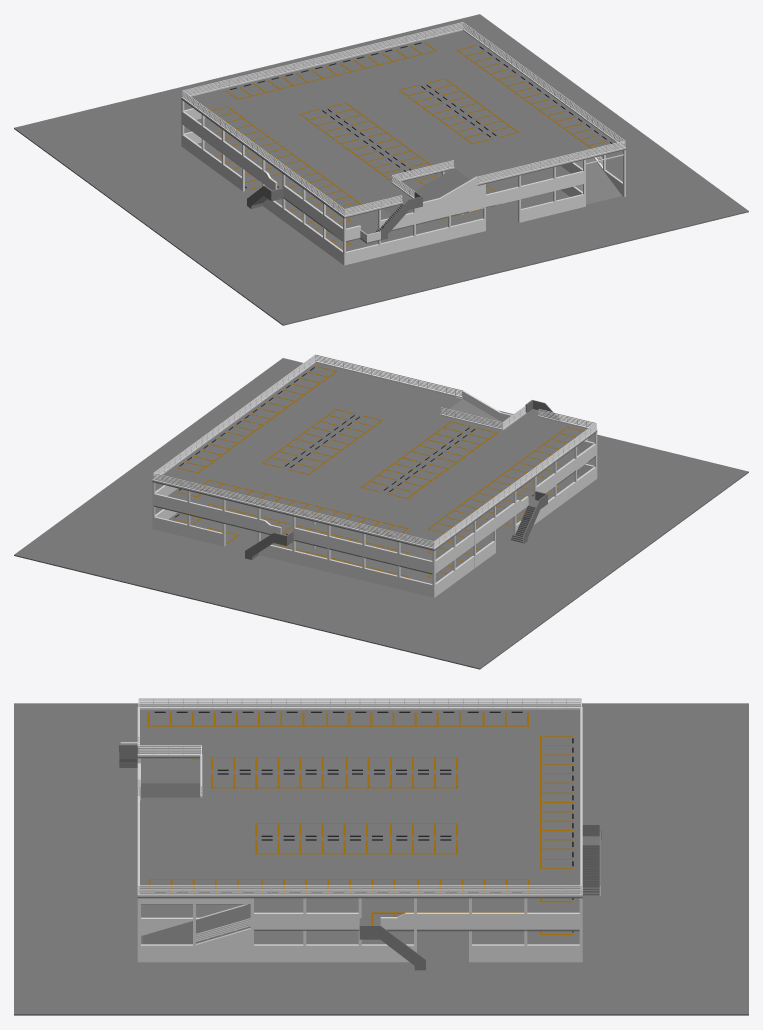
Rendered from Car Parking.fbx.
3 renders of one model, top to bottom at view 1: azimuth 30°, elevation 25°; view 2: azimuth 150°, elevation 25°; view 3: azimuth 270°, elevation 25°, orthographic. The views are drawn at different scales.
Parts seen in each view (by area): view 1: CAR-PARK; view 2: CAR-PARK; view 3: CAR-PARK.
Part boxes in pixels (box(x1,y1,x2,y2)): CAR-PARK: box(14, 14, 748, 325); CAR-PARK: box(14, 354, 748, 669); CAR-PARK: box(14, 698, 748, 1015).
Bounding box in the file's own units: 7423 × 878 × 7423.
